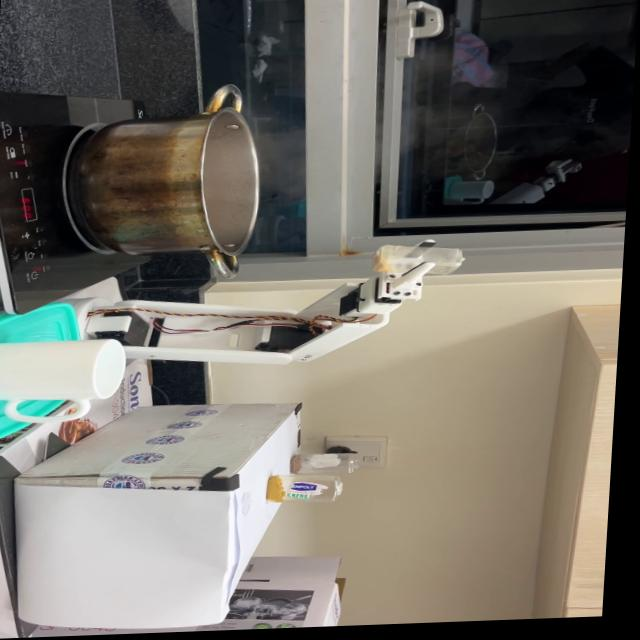cooking_pot: (69, 83, 270, 293)
curry_powder: (267, 480, 295, 508)
garlic_powder: (367, 255, 399, 279)
maggie_open: (293, 457, 314, 479)
